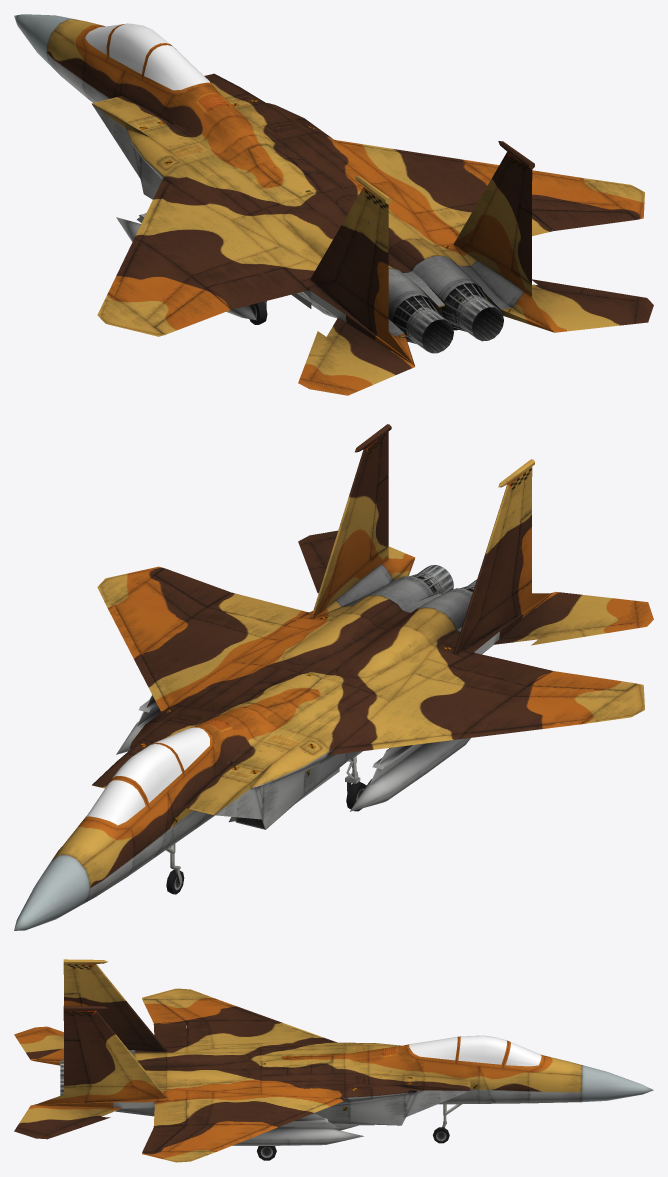
The picture shows the model from 3 angles, top to bottom: view 1: azimuth 30°, elevation 25°; view 2: azimuth 150°, elevation 25°; view 3: azimuth 270°, elevation 25°; orthographic projection. The views are drawn at different scales.
Visible parts, largest first — view 1: Glass; view 2: Glass; view 3: Glass.
Boxes of the visible parts, x1,y1,x2,y2 form: Glass: [14, 14, 653, 395]; Glass: [14, 424, 653, 930]; Glass: [14, 959, 653, 1162].
Bounding box in the file's own units: 1.4 × 0.6035 × 2.18.
2 materials, 1 textured.
